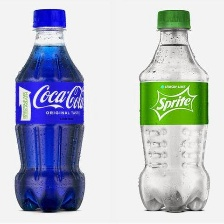bottle: (8, 2, 86, 215), (133, 5, 212, 213)
